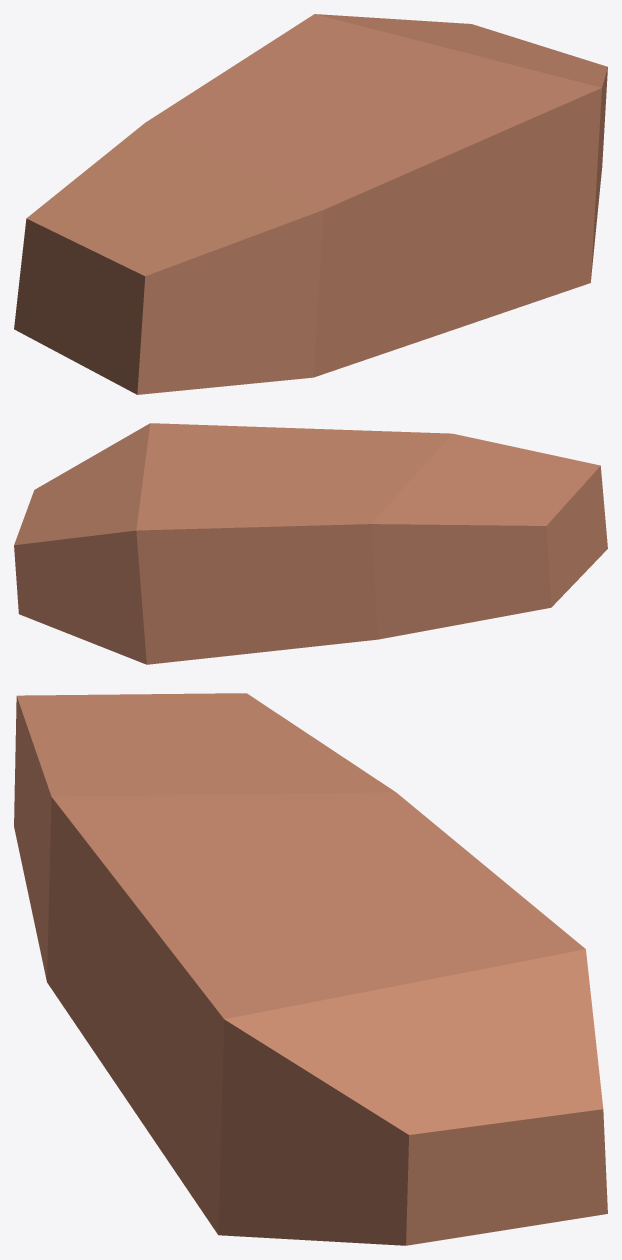
File: wing02.fbx
3 renders of one model, top to bottom at view 1: azimuth 30°, elevation 25°; view 2: azimuth 150°, elevation 25°; view 3: azimuth 270°, elevation 25°, orthographic. The views are drawn at different scales.
Parts seen in each view (by area): view 1: wing02; view 2: wing02; view 3: wing02.
Part boxes in pixels (x1,y1,x2,y2): wing02: [14, 14, 607, 394]; wing02: [14, 423, 607, 664]; wing02: [14, 693, 607, 1245].
Bounding box in the file's own units: 12.84 × 3.86 × 8.49.
1 material, 1 textured.
